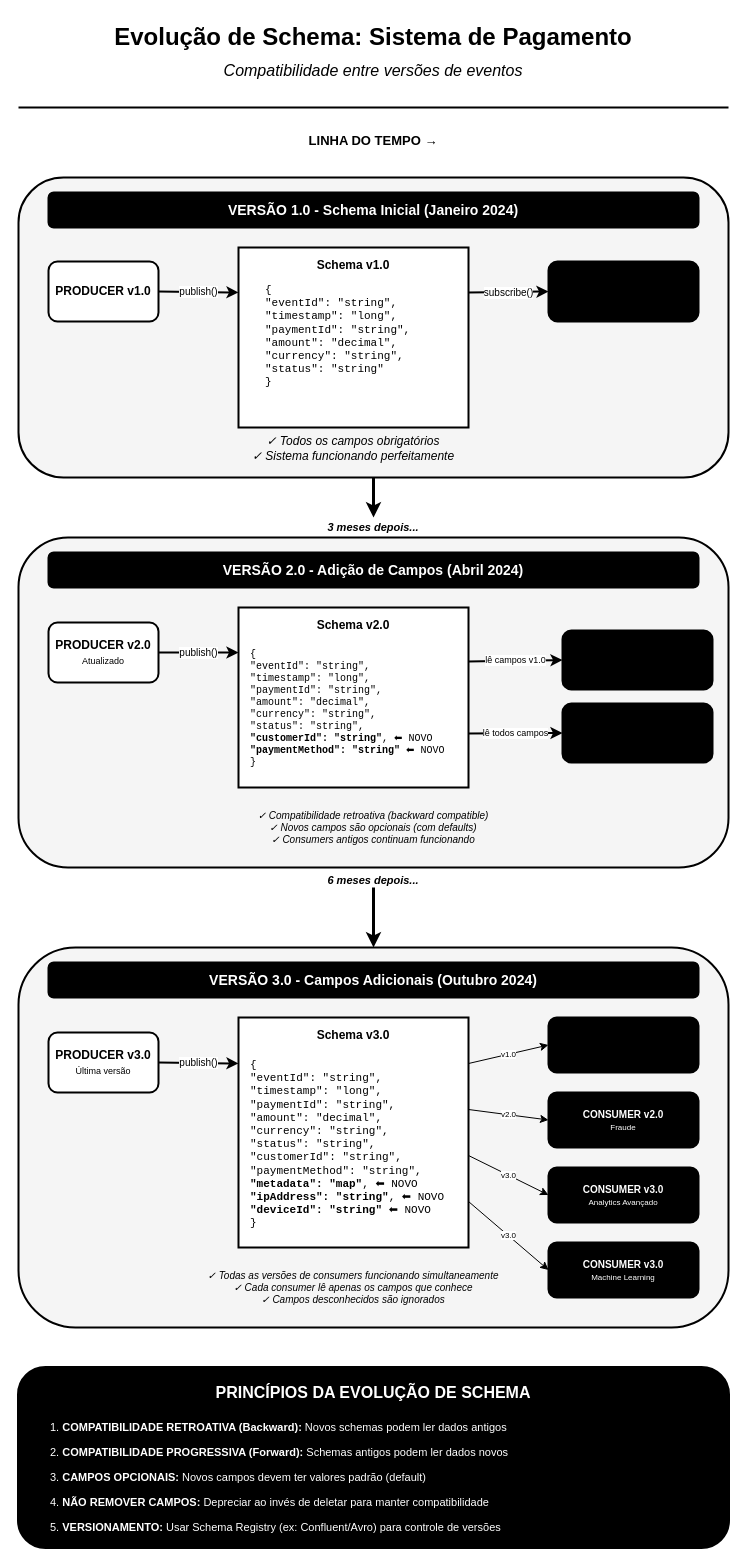
This 748x1566 diagram has some shape labels left out. The centre of each missing label's shape, as x and y in pixels:
"CONSUMER v1.0 Relatórios (legado)" goes at (x=623, y=1044).
"CONSUMER v1.0 Sistema de Relatórios" goes at (x=623, y=291).
"CONSUMER v1.0 Sistema de Relatórios (não atualizado)" goes at (x=637, y=659).
"CONSUMER v2.0 Sistema de Fraude (novo serviço)" goes at (x=637, y=732).
